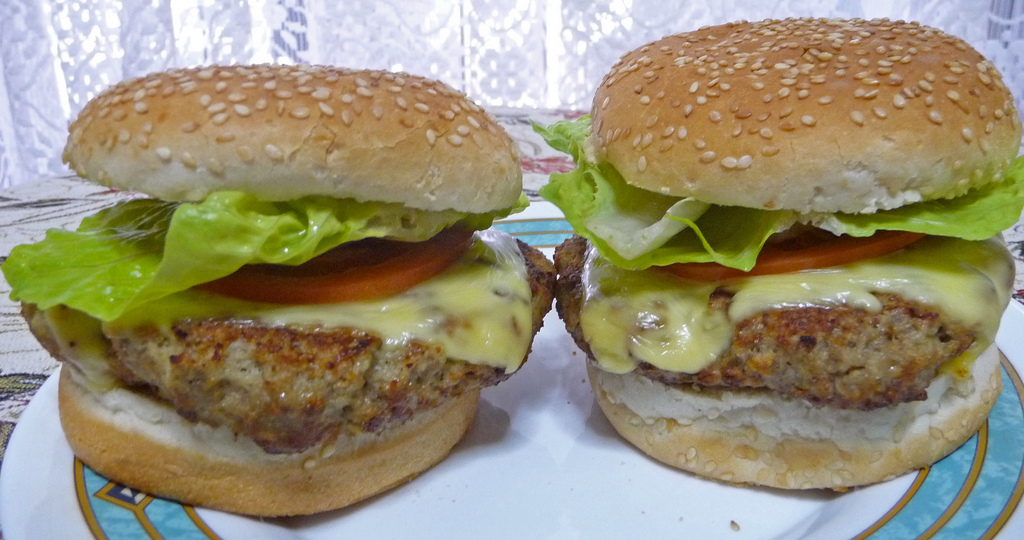slice of bread: (54, 353, 507, 528), (590, 21, 1024, 201), (62, 64, 528, 219), (581, 363, 1013, 491)
